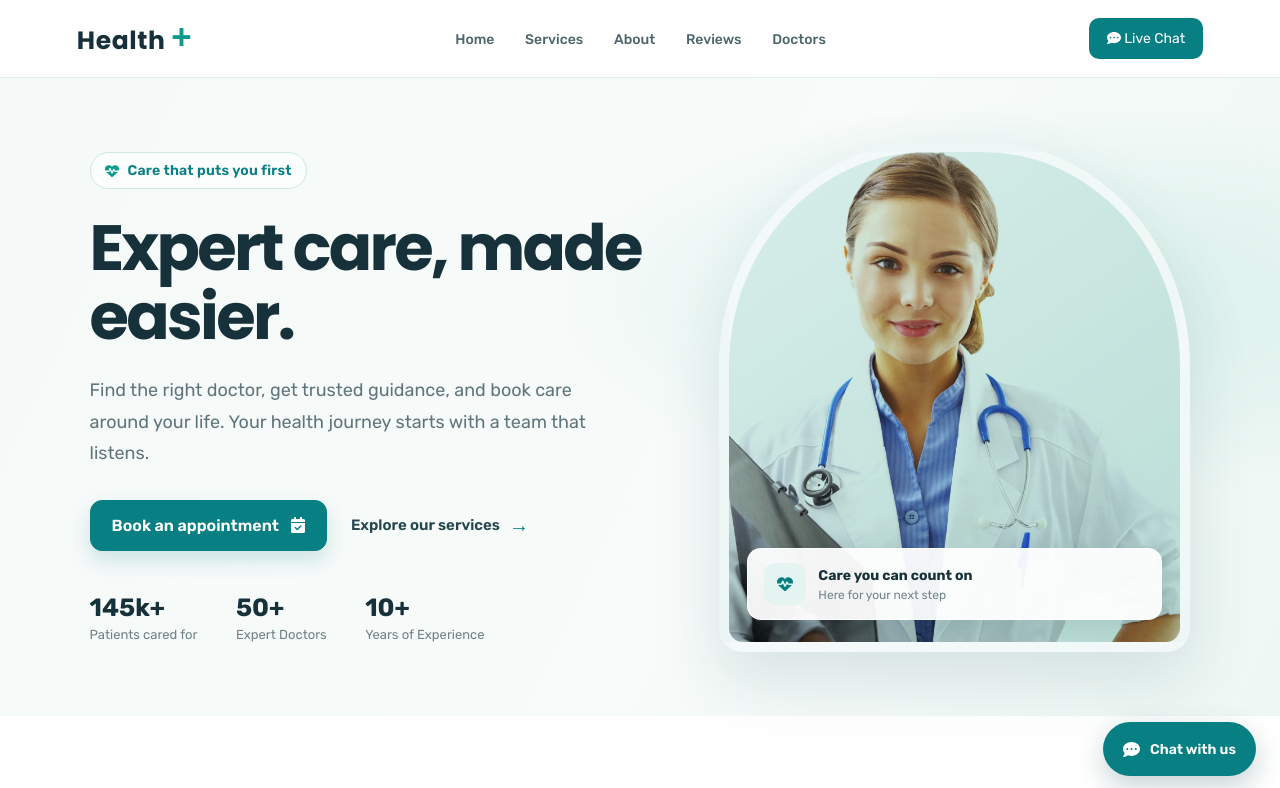
Test: shows setup guidance when the chat API returns an HTML page
The width and height of the screenshot is (1280, 788).
Click the button with aria-label "Open live chat" at {"x": 1180, "y": 749}, box [1103, 722, 1256, 776]
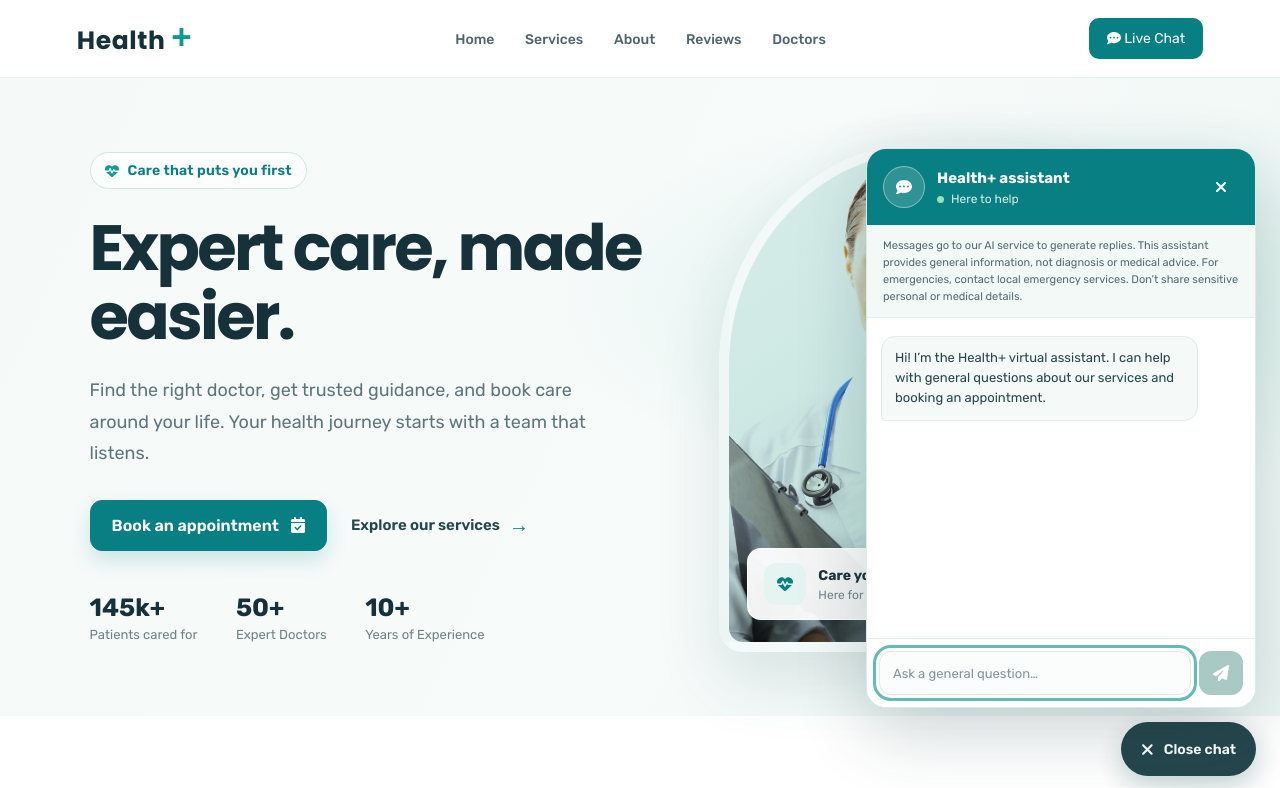
Type "How do I book?" into the field named "message the health+ assistant" at {"x": 1035, "y": 673}, box [879, 651, 1191, 695]
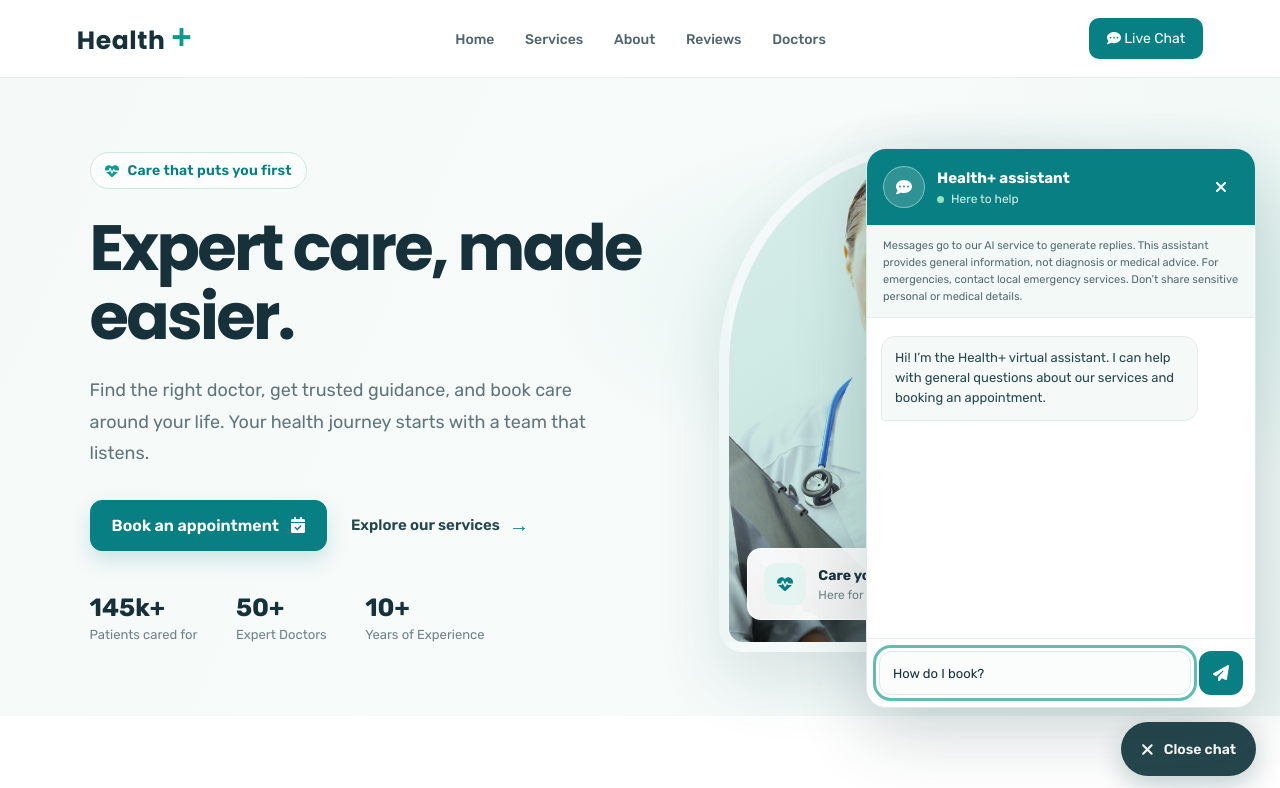
Click the button named "send message" at {"x": 1221, "y": 673}, box [1199, 651, 1243, 695]
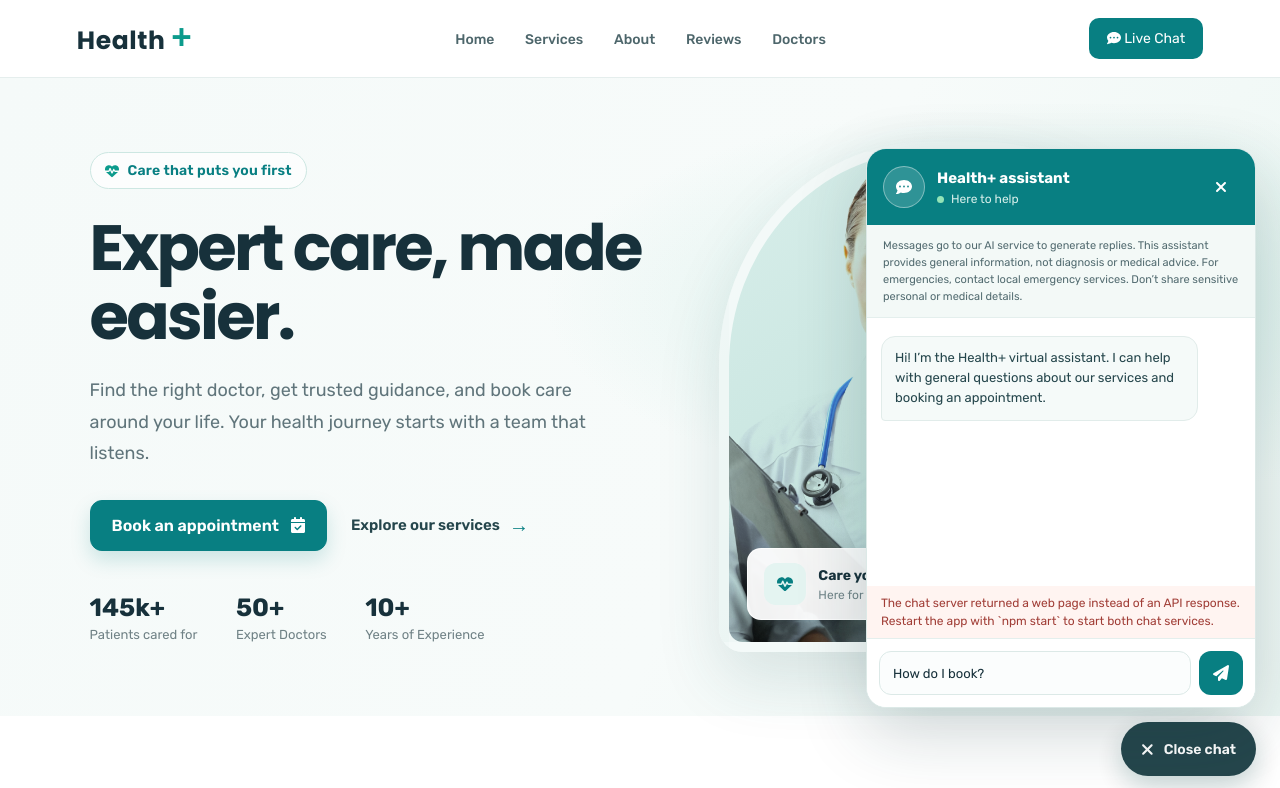
Expected: the message shows "returned a web page instead of an API response", [881, 596, 1240, 628]
